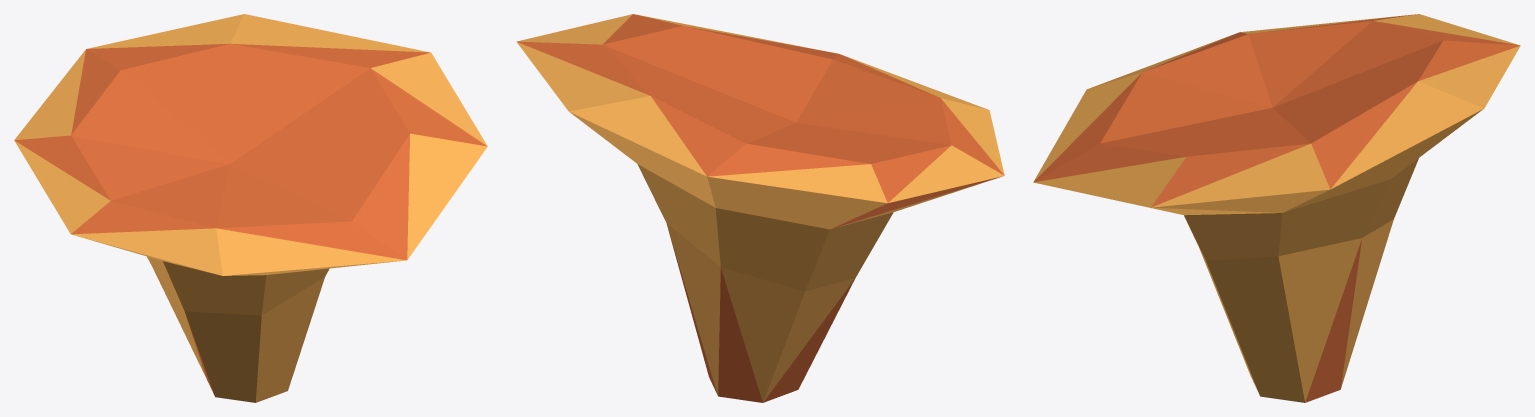
File: shroomChanterelle-compressed.glb
The picture shows the model from 3 angles, left to right: view 1: azimuth 30°, elevation 25°; view 2: azimuth 150°, elevation 25°; view 3: azimuth 270°, elevation 25°; orthographic projection. The views are drawn at different scales.
Parts seen in each view (by area): view 1: shroomChanterelle; view 2: shroomChanterelle; view 3: shroomChanterelle.
Part boxes in pixels (<box>): shroomChanterelle: <box>14,14,487,402</box>; shroomChanterelle: <box>516,14,1004,402</box>; shroomChanterelle: <box>1033,14,1520,402</box>.
Size of the model in its own units: 0.4323 by 0.3 by 0.411.
